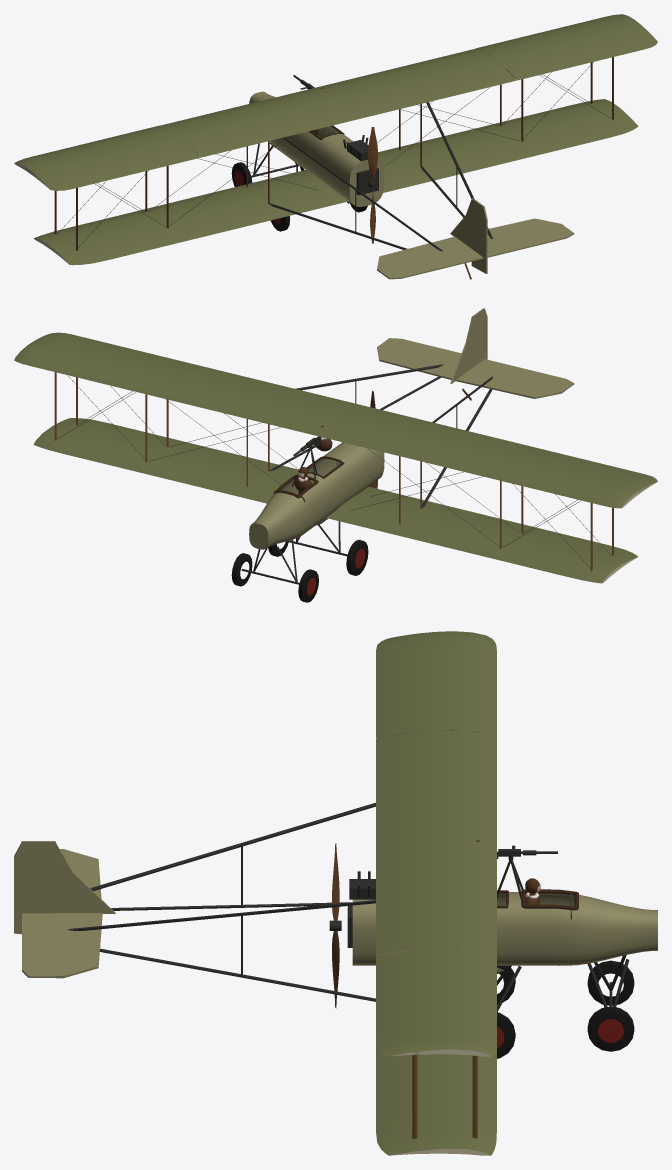
Rendered from voisin_iii.glb.
3 views of the same model, one above another, from view 1: azimuth 30°, elevation 25°; view 2: azimuth 150°, elevation 25°; view 3: azimuth 270°, elevation 25° (orthographic). The views are drawn at different scales.
Visible parts, largest first — view 1: Wing_Lower_L, Wing_Upper_L, Wing_Upper_R, Wing_Lower_R, Fuselage, Struts, Elevator, Aileron_L, Aileron_R, Stabilizer_L, Wires, Rudder (+5 smaller); view 2: Wing_Upper_L, Wing_Upper_R, Wing_Lower_L, Wing_Lower_R, Fuselage, Struts, Elevator, Wheels, Stabilizer_L, Wires, Stabilizer_R, Aileron_L (+5 smaller); view 3: Wing_Upper_R, Wing_Upper_L, Wing_Lower_R, Fuselage, Struts, Wheels, Aileron_R, Rudder, Aileron_L, Stabilizer_R, Elevator, Fin (+4 smaller).
Boxes of the visible parts, x1=… form: Wing_Lower_L: x1=33, y1=170, x2=348, y2=265; Wing_Upper_L: x1=14, y1=87, x2=358, y2=181; Wing_Upper_R: x1=319, y1=14, x2=648, y2=118; Wing_Lower_R: x1=378, y1=99, x2=638, y2=192; Fuselage: x1=249, y1=91, x2=384, y2=206; Struts: x1=54, y1=57, x2=613, y2=251; Elevator: x1=380, y1=226, x2=574, y2=279; Aileron_L: x1=41, y1=146, x2=199, y2=190; Aileron_R: x1=506, y1=32, x2=657, y2=80; Stabilizer_L: x1=377, y1=236, x2=471, y2=272; Wires: x1=57, y1=62, x2=610, y2=247; Rudder: x1=471, y1=198, x2=487, y2=273; Wing_Upper_L: x1=316, y1=404, x2=648, y2=508; Wing_Upper_R: x1=14, y1=336, x2=357, y2=435; Wing_Lower_L: x1=326, y1=486, x2=638, y2=583; Wing_Lower_R: x1=33, y1=418, x2=298, y2=503; Fuselage: x1=249, y1=442, x2=384, y2=549; Struts: x1=54, y1=364, x2=613, y2=571; Elevator: x1=380, y1=338, x2=574, y2=390; Wheels: x1=231, y1=539, x2=368, y2=602; Stabilizer_L: x1=456, y1=367, x2=564, y2=398; Wires: x1=57, y1=375, x2=611, y2=567; Stabilizer_R: x1=377, y1=345, x2=457, y2=379; Aileron_L: x1=506, y1=443, x2=657, y2=486; Wing_Upper_R: x1=376, y1=839, x2=496, y2=1056; Wing_Upper_L: x1=376, y1=631, x2=496, y2=847; Wing_Lower_R: x1=376, y1=1045, x2=496, y2=1155; Fuselage: x1=352, y1=892, x2=657, y2=965; Struts: x1=68, y1=802, x2=477, y2=1138; Wheels: x1=497, y1=960, x2=634, y2=1058; Aileron_R: x1=376, y1=951, x2=415, y2=1056; Rudder: x1=14, y1=841, x2=55, y2=934; Aileron_L: x1=376, y1=634, x2=414, y2=738; Stabilizer_R: x1=55, y1=913, x2=102, y2=978; Elevator: x1=22, y1=913, x2=55, y2=977; Fin: x1=55, y1=842, x2=115, y2=913.
Bounding box in the file's own units: 14.74 × 3.18 × 9.59.
